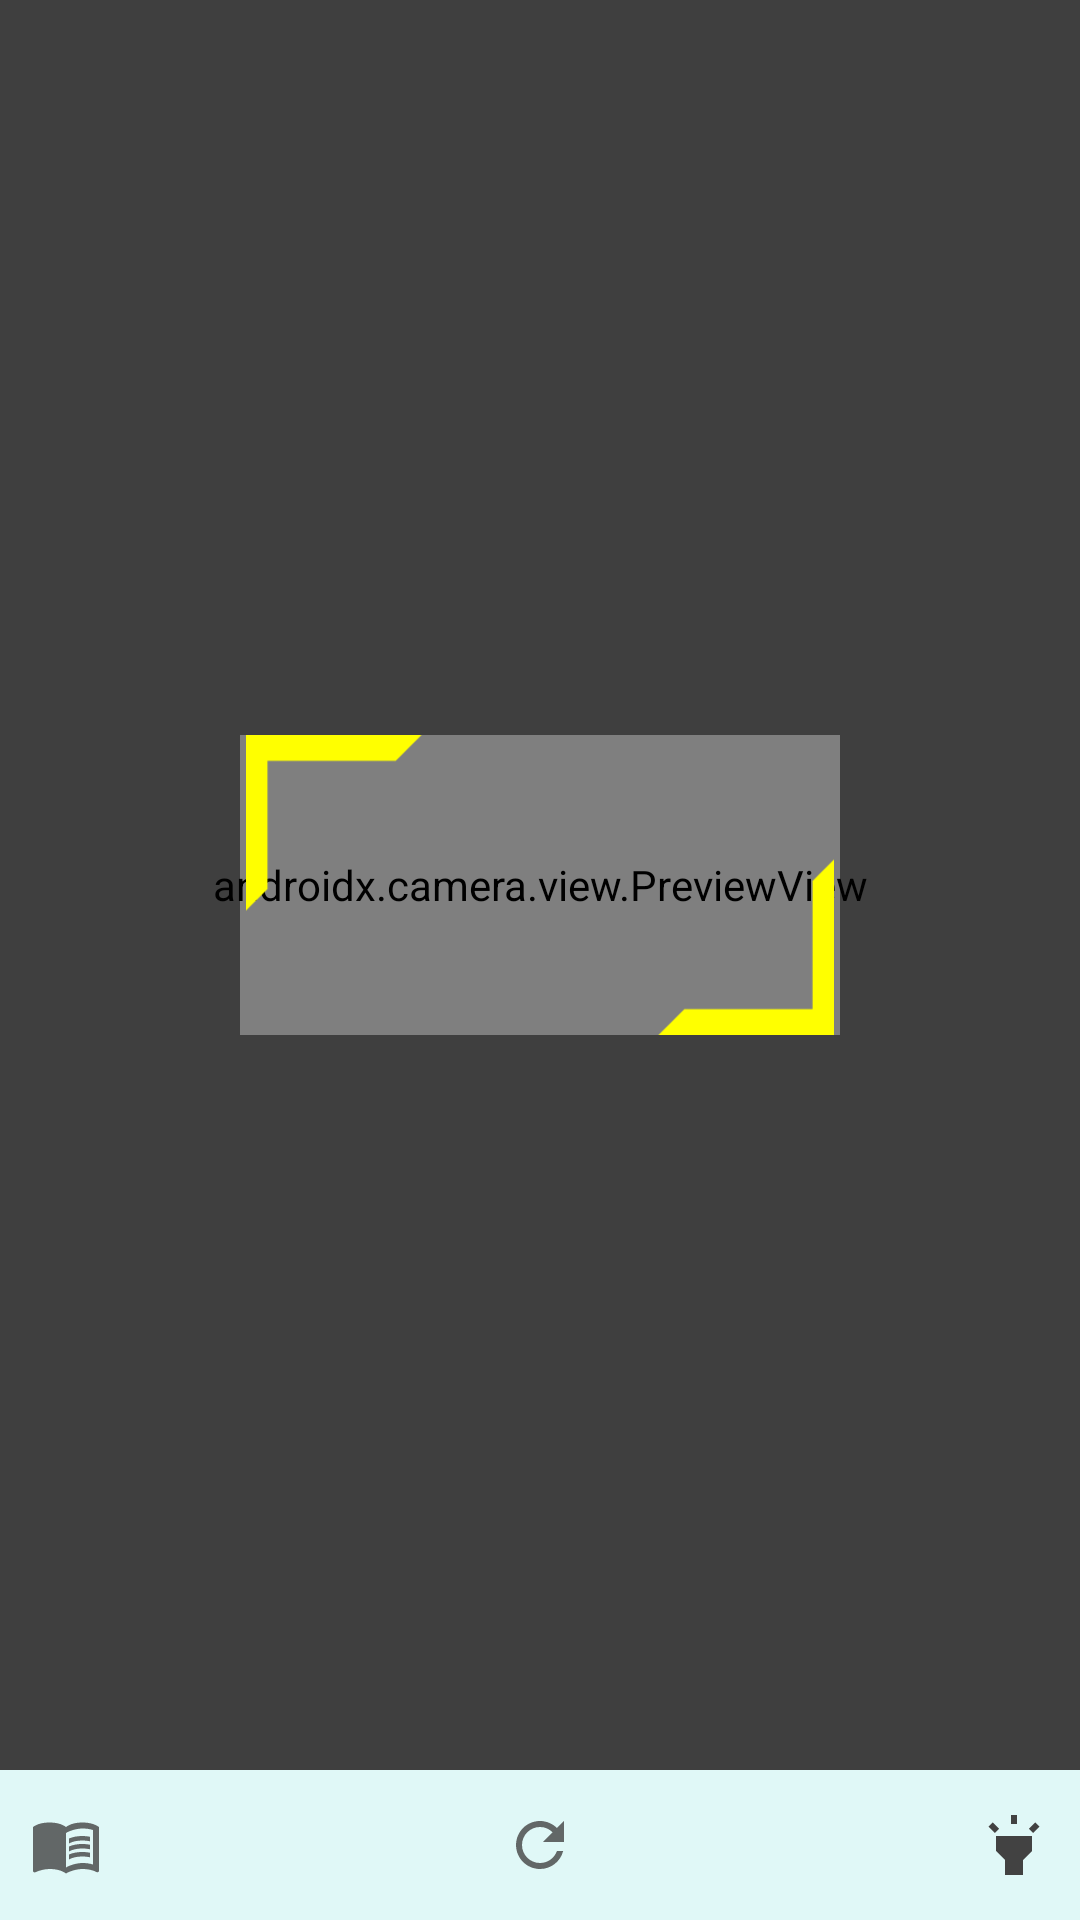

Named icons in this screenshot (1080×1920) and their centers, (x,y):
flashlight: (1014,1845)
refresh: (540,1845)
